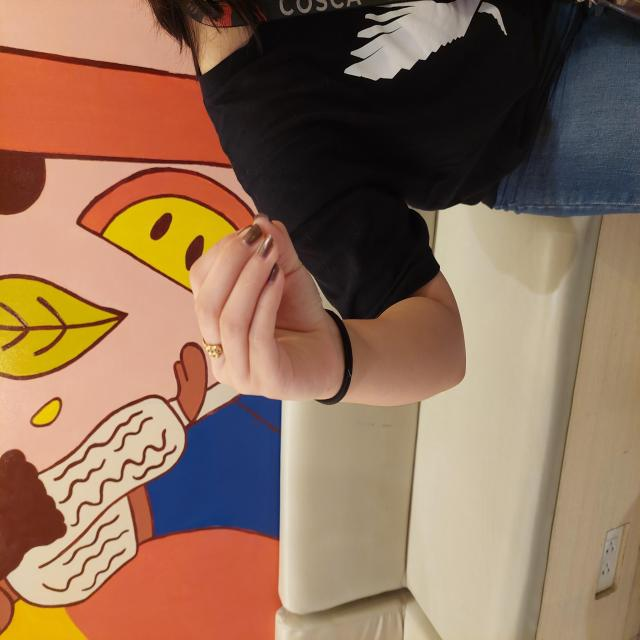O: (162, 185, 366, 428)
